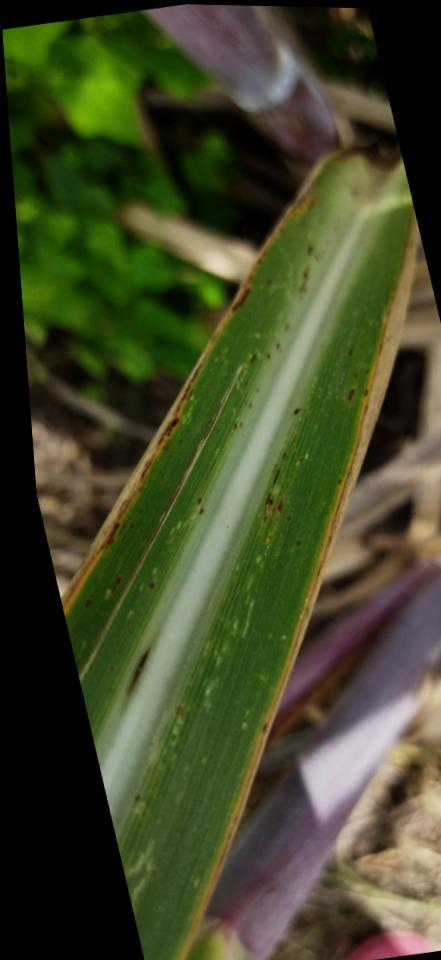Rust: (60, 242, 273, 606), (259, 450, 289, 524), (262, 321, 293, 361), (125, 647, 150, 696), (298, 263, 310, 300), (108, 576, 123, 595), (351, 368, 370, 379), (84, 592, 94, 610), (345, 386, 356, 402), (196, 496, 204, 516), (231, 421, 245, 432), (146, 580, 157, 591), (250, 352, 259, 364), (292, 406, 301, 415), (286, 513, 295, 521), (294, 538, 301, 547), (347, 347, 353, 357), (363, 388, 369, 397), (337, 478, 342, 484)
Yellow: (171, 278, 397, 960)
